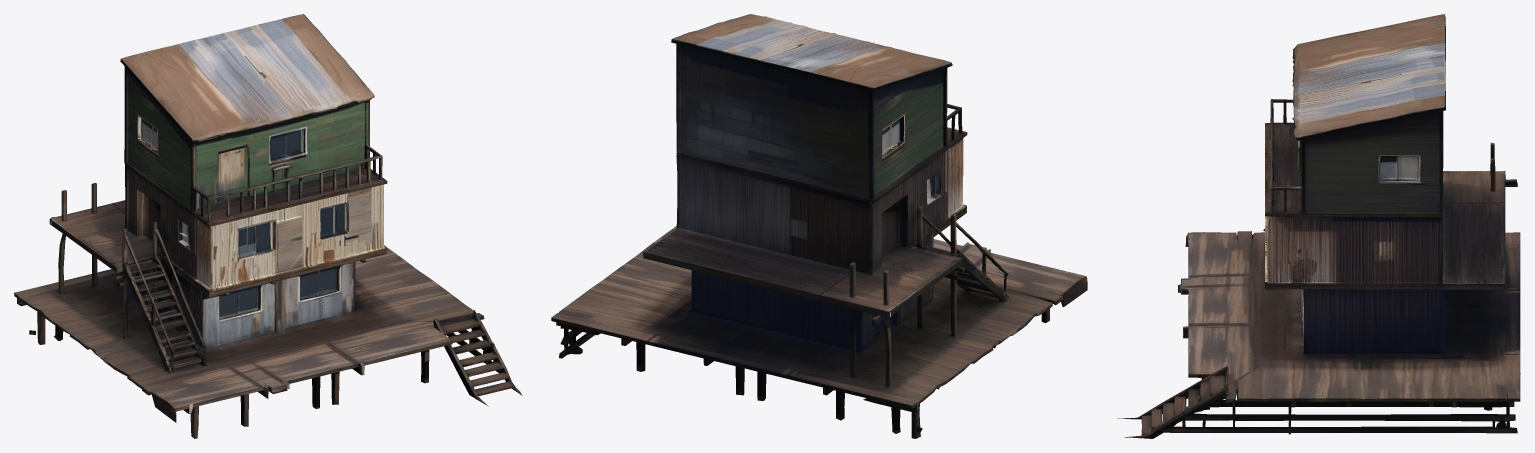
File: house.glb
3 renders of one model, left to right at view 1: azimuth 30°, elevation 25°; view 2: azimuth 150°, elevation 25°; view 3: azimuth 270°, elevation 25°, orthographic. The views are drawn at different scales.
Visible parts, largest first — view 1: model; view 2: model; view 3: model.
Part boxes in pixels (left/top/right/bottom): model: left=14, top=14, right=522, bottom=438; model: left=551, top=14, right=1087, bottom=438; model: left=1117, top=14, right=1520, bottom=438.
Size of the model in its own units: 1.78 by 1.47 by 1.8.
Materials: 1 (1 with a texture image).
